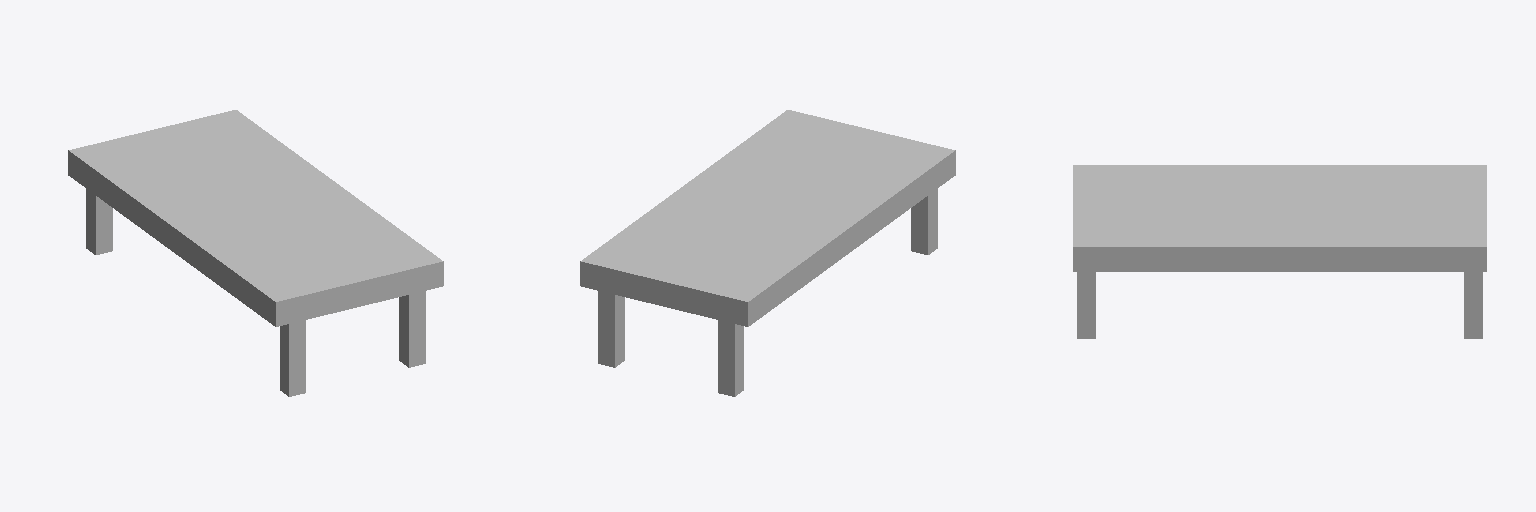
The model's file is table.obj.
The picture shows the model from 3 angles: view 1: azimuth 30°, elevation 25°; view 2: azimuth 150°, elevation 25°; view 3: azimuth 270°, elevation 25°; orthographic projection.
Visible parts, largest first — view 1: pCube1, pCube2, pCube3, pCube5; view 2: pCube1, pCube4, pCube5, pCube3; view 3: pCube1, pCube2, pCube4.
Part boxes in pixels (bbox=[...]): pCube1: bbox=[68, 110, 443, 326]; pCube2: bbox=[399, 291, 425, 367]; pCube3: bbox=[280, 320, 305, 396]; pCube5: bbox=[86, 189, 112, 254]; pCube1: bbox=[580, 110, 955, 326]; pCube4: bbox=[598, 291, 624, 367]; pCube5: bbox=[718, 320, 743, 396]; pCube3: bbox=[911, 189, 937, 254]; pCube1: bbox=[1073, 165, 1486, 271]; pCube2: bbox=[1077, 272, 1095, 338]; pCube4: bbox=[1464, 272, 1482, 338].
Bounding box in the file's own units: 3.5 × 2 × 7.5.